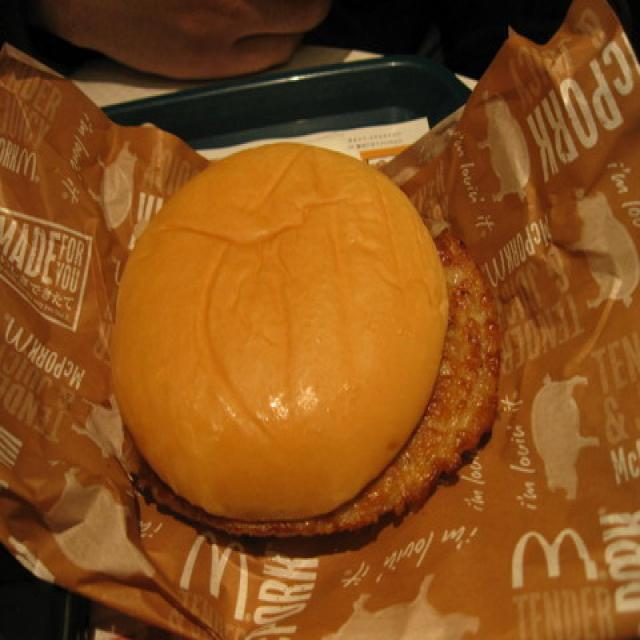Hamburger: (108, 138, 464, 552)
